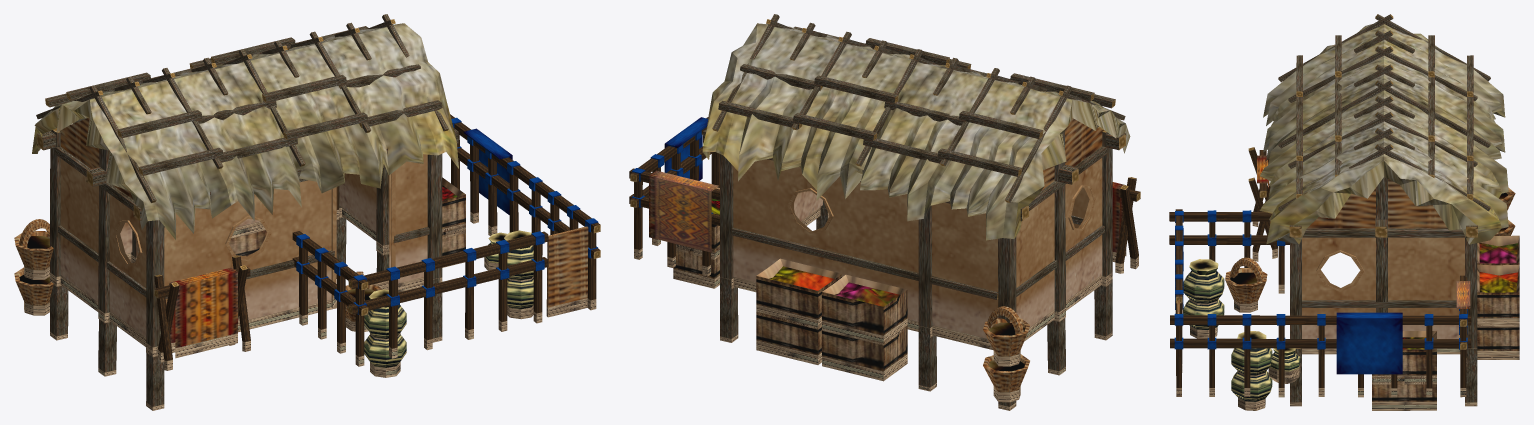
The model's file is house_4.dae.
3 renders of one model, left to right at view 1: azimuth 30°, elevation 25°; view 2: azimuth 150°, elevation 25°; view 3: azimuth 270°, elevation 25°, orthographic. The views are drawn at different scales.
Parts seen in each view (by area): view 1: house_4; view 2: house_4; view 3: house_4.
Part boxes in pixels (x1,y1,x2,y2): house_4: [14, 14, 600, 410]; house_4: [629, 14, 1140, 410]; house_4: [1169, 14, 1519, 410].
Bounding box in the file's own units: 15.55 × 12.58 × 10.33.
